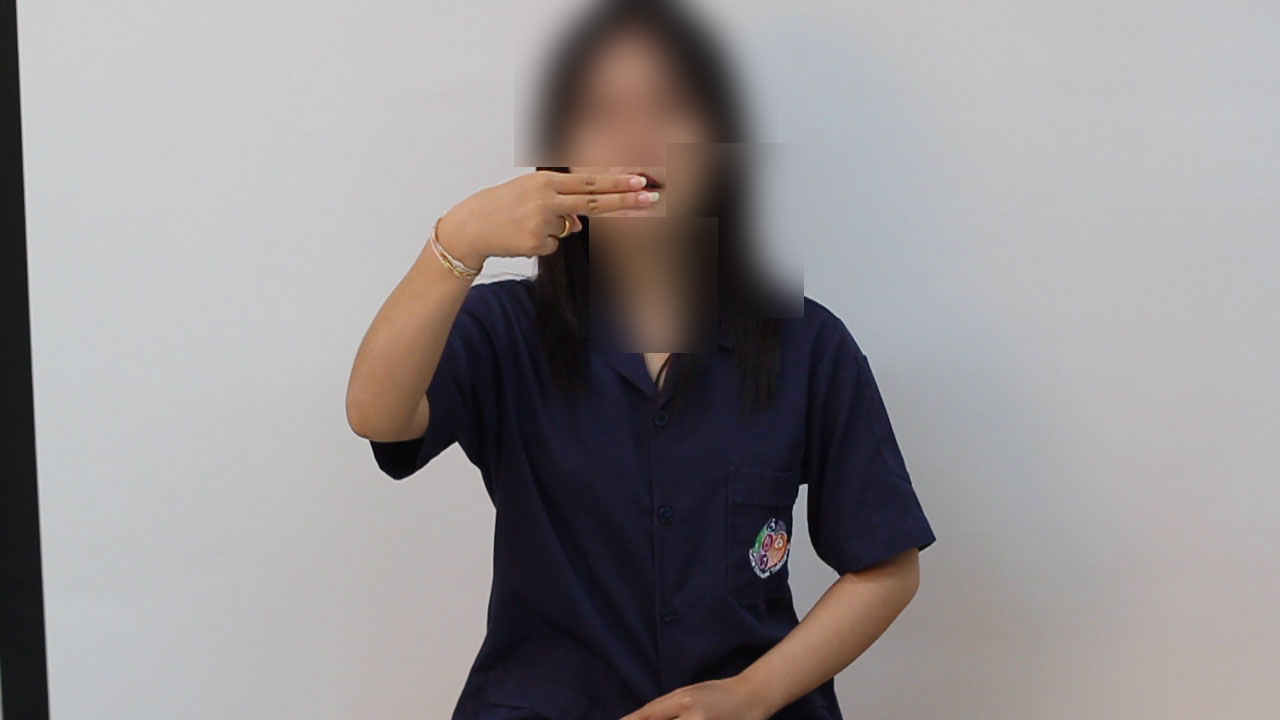hor: (417, 167, 666, 284)
